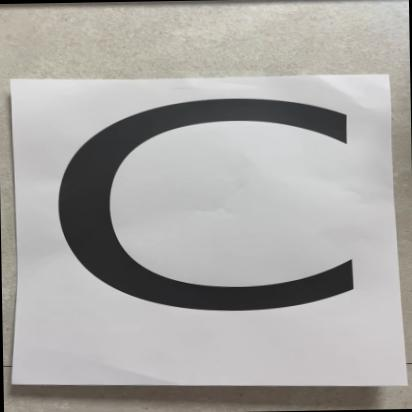seat: (0, 52, 412, 408)
